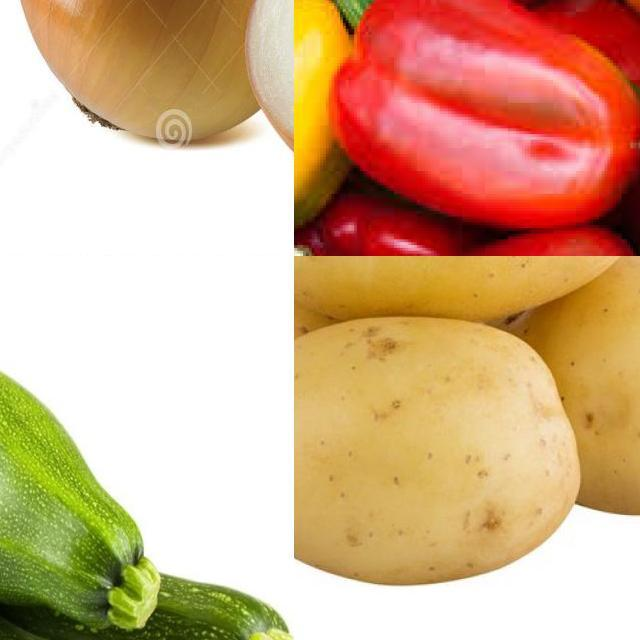bell_pepper: (326, 1, 640, 231), (295, 1, 359, 234)
onion: (9, 1, 295, 155)
potato: (295, 318, 582, 586), (521, 257, 640, 517), (295, 257, 343, 458)
zucchini: (1, 287, 165, 631)
